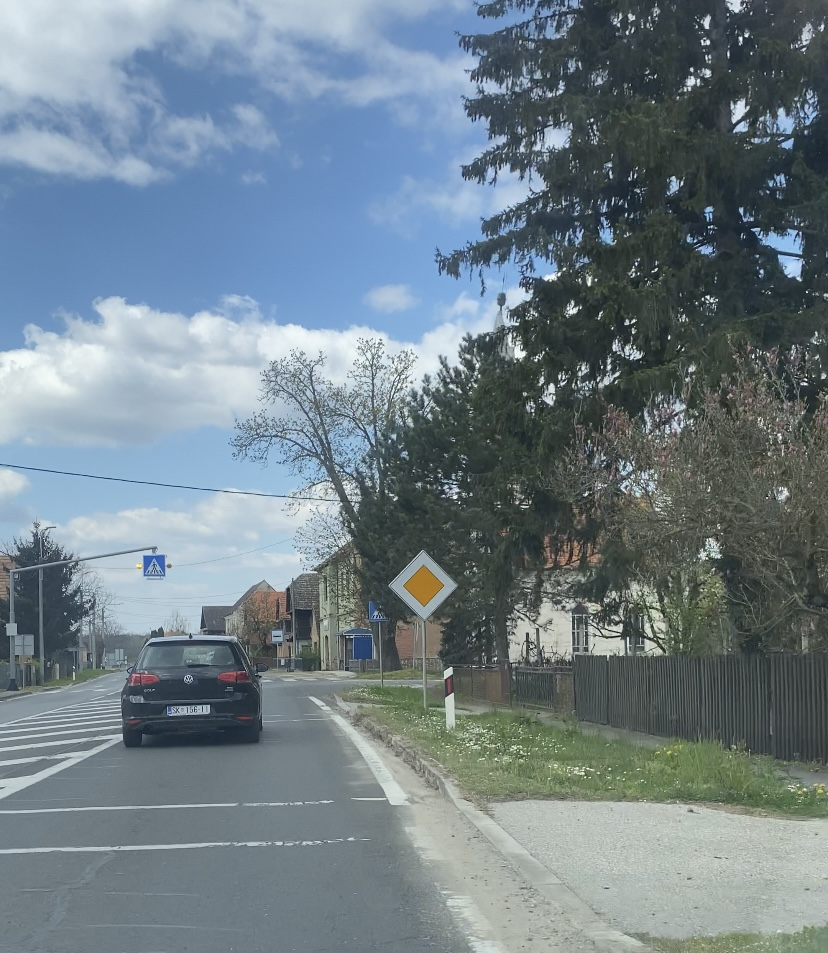Cesta s prednošću prolaska: (387, 549, 459, 622)
Pješački prijelaz: (143, 555, 165, 577)
